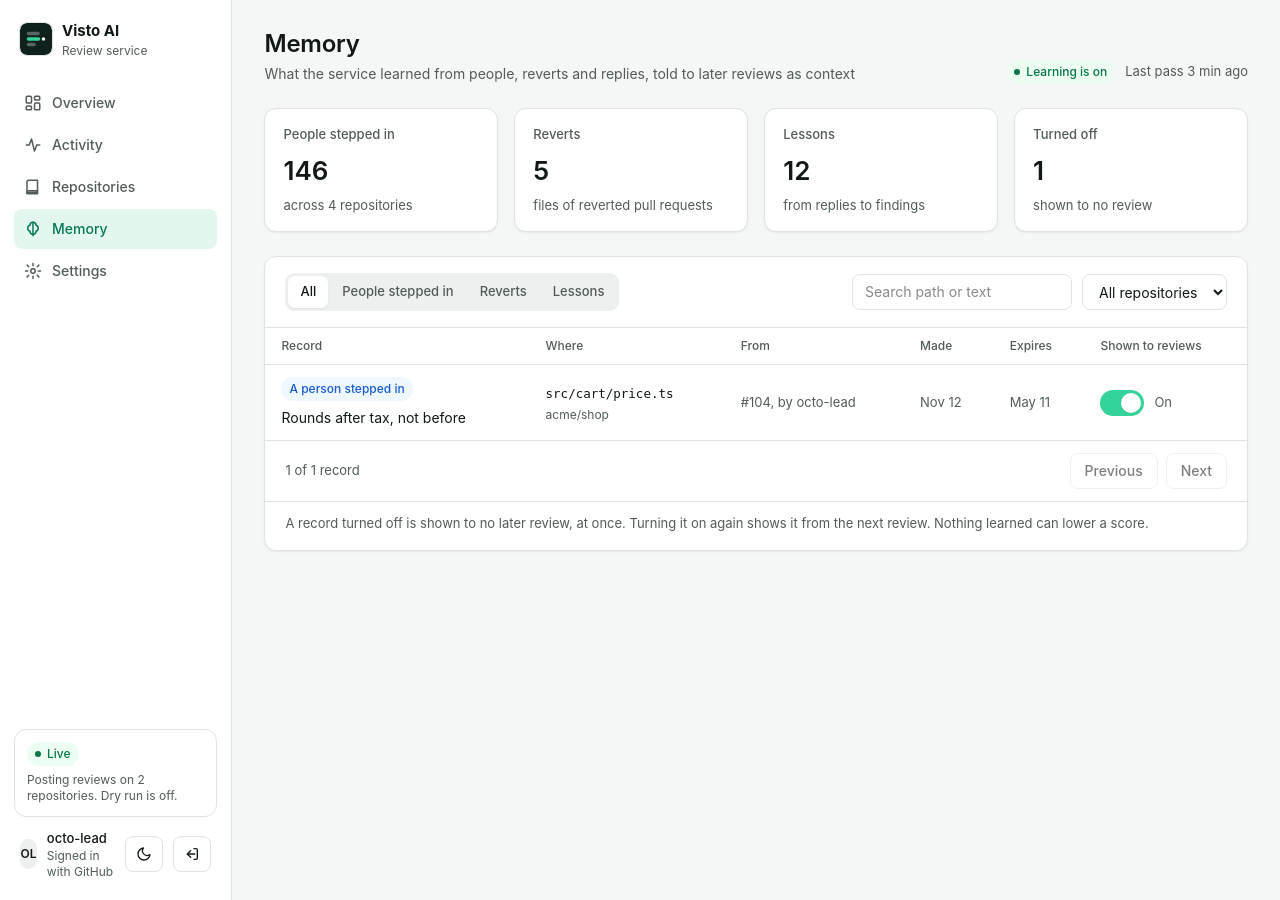
a refused switch says so, and the record stays as it was
The width and height of the screenshot is (1280, 900).
Click the switch named "Turn off: src/cart/price.ts". click: {"x": 1122, "y": 402}
box: [1100,390,1144,416]
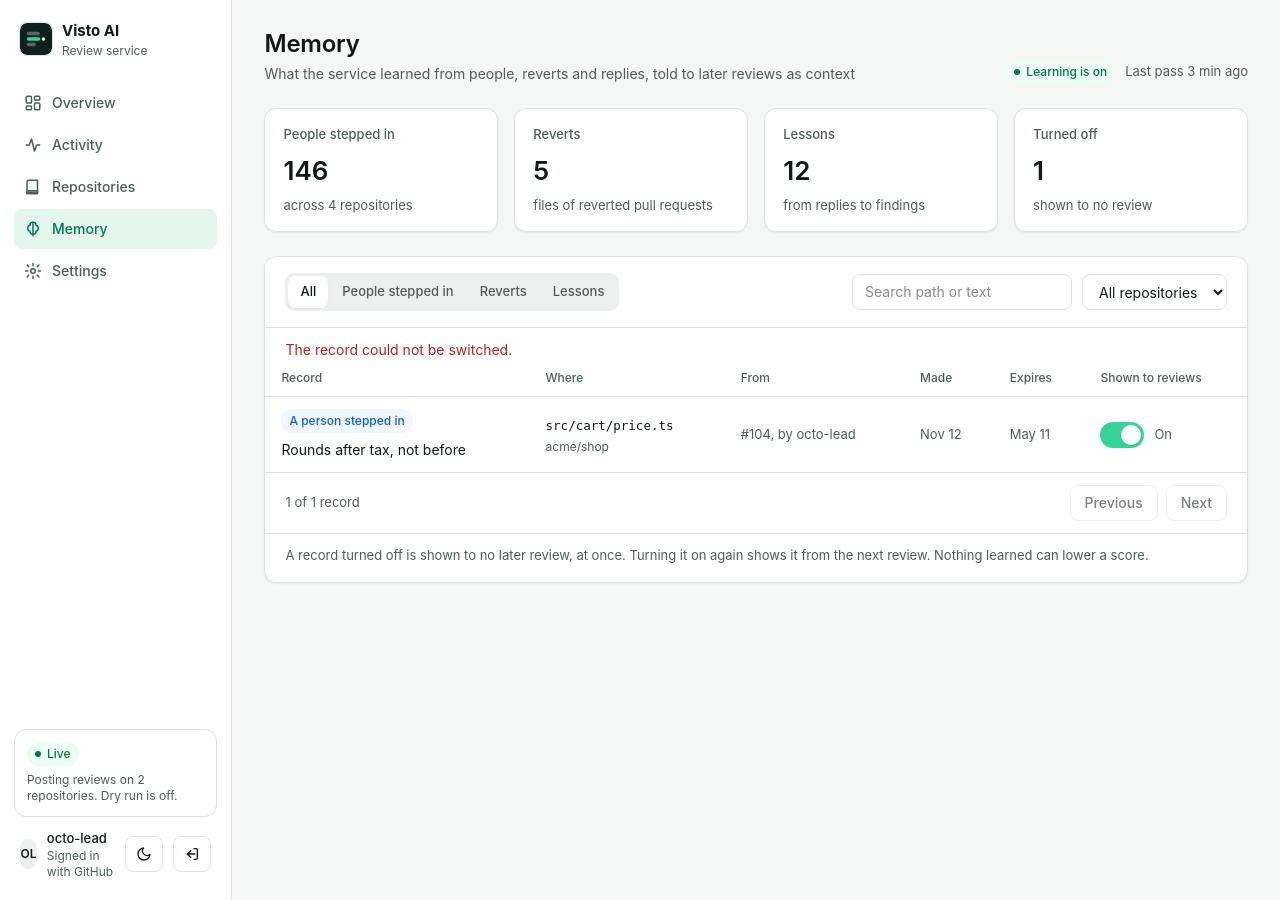
Expected: the switch named "Turn off: src/cart/price.ts" is enabled, [1100,422,1144,448]
Result: the message reads "The record could not be switched." at [286,341,512,358]
